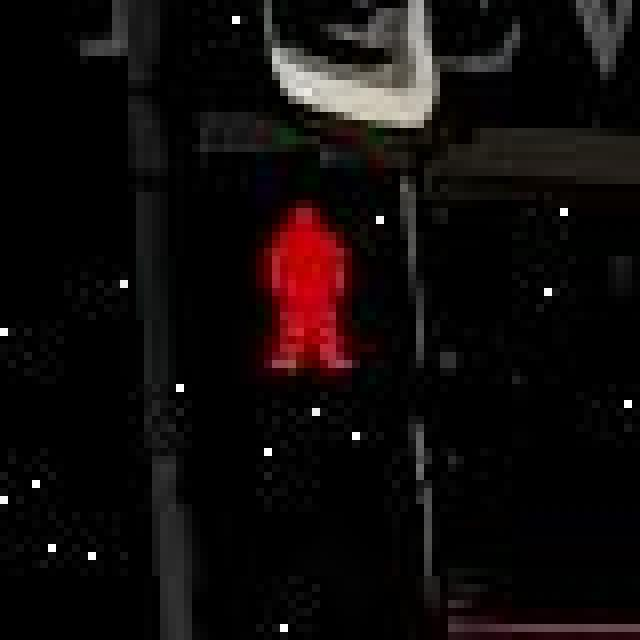redlight: (160, 136, 504, 632)
